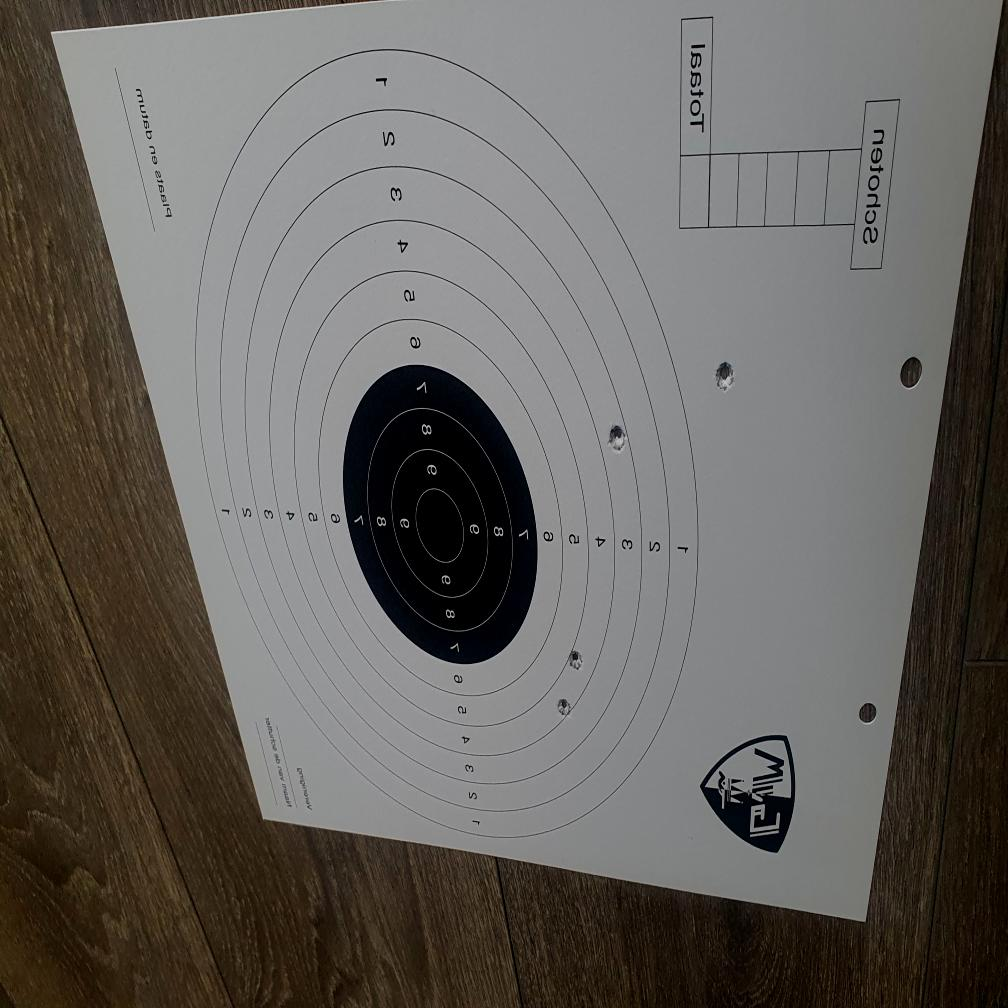0: (714, 360, 736, 394)
3: (608, 422, 626, 453)
4: (568, 650, 583, 670), (557, 698, 572, 717)
Target: (196, 46, 700, 836)
black_contour: (342, 363, 538, 666)
